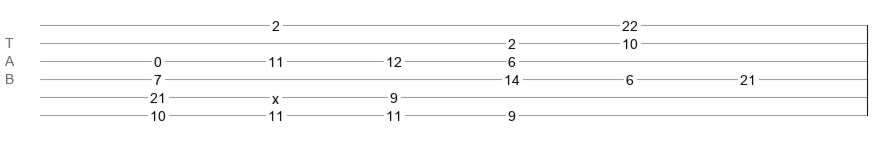0: (154, 54, 162, 64)
10: (150, 108, 166, 118), (622, 36, 638, 46)
11: (268, 54, 284, 64), (268, 108, 284, 118), (386, 108, 402, 118)
12: (386, 54, 402, 64)
14: (504, 72, 520, 82)
2: (272, 18, 280, 28), (508, 36, 516, 46)
21: (150, 90, 166, 100), (740, 72, 756, 82)
22: (622, 18, 638, 28)
6: (508, 54, 516, 64), (626, 72, 634, 82)
7: (154, 72, 162, 82)
9: (390, 90, 398, 100), (508, 108, 516, 118)
x: (272, 91, 279, 99)
